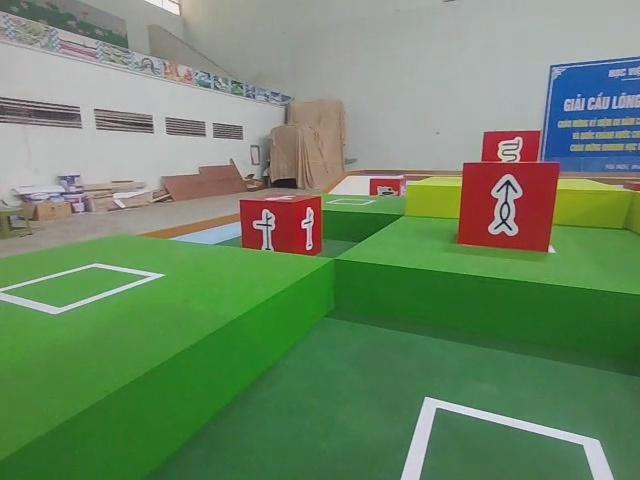R2 Fake: (478, 128, 542, 179)
R2 Real: (458, 159, 560, 253), (235, 191, 325, 256)
